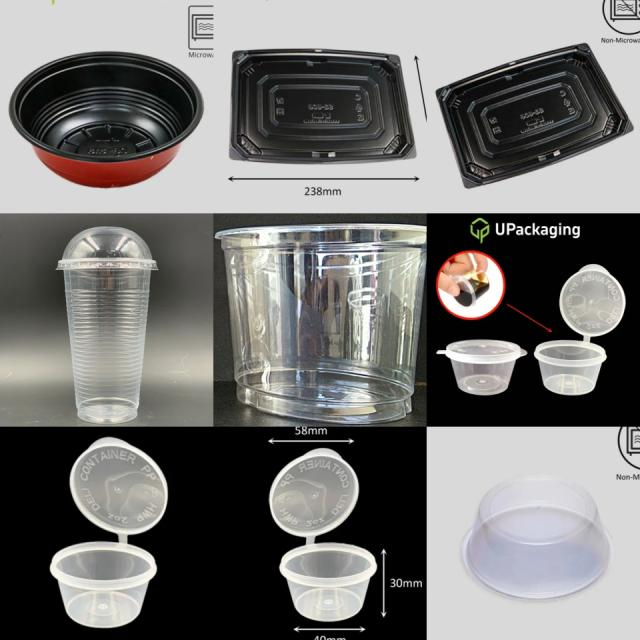Single-Use-Plastic: (216, 224, 426, 424), (436, 45, 632, 188), (9, 51, 202, 187), (50, 438, 168, 628), (230, 50, 415, 162), (58, 228, 158, 422), (269, 449, 378, 621), (462, 476, 611, 599), (534, 264, 625, 395), (438, 340, 528, 395)
